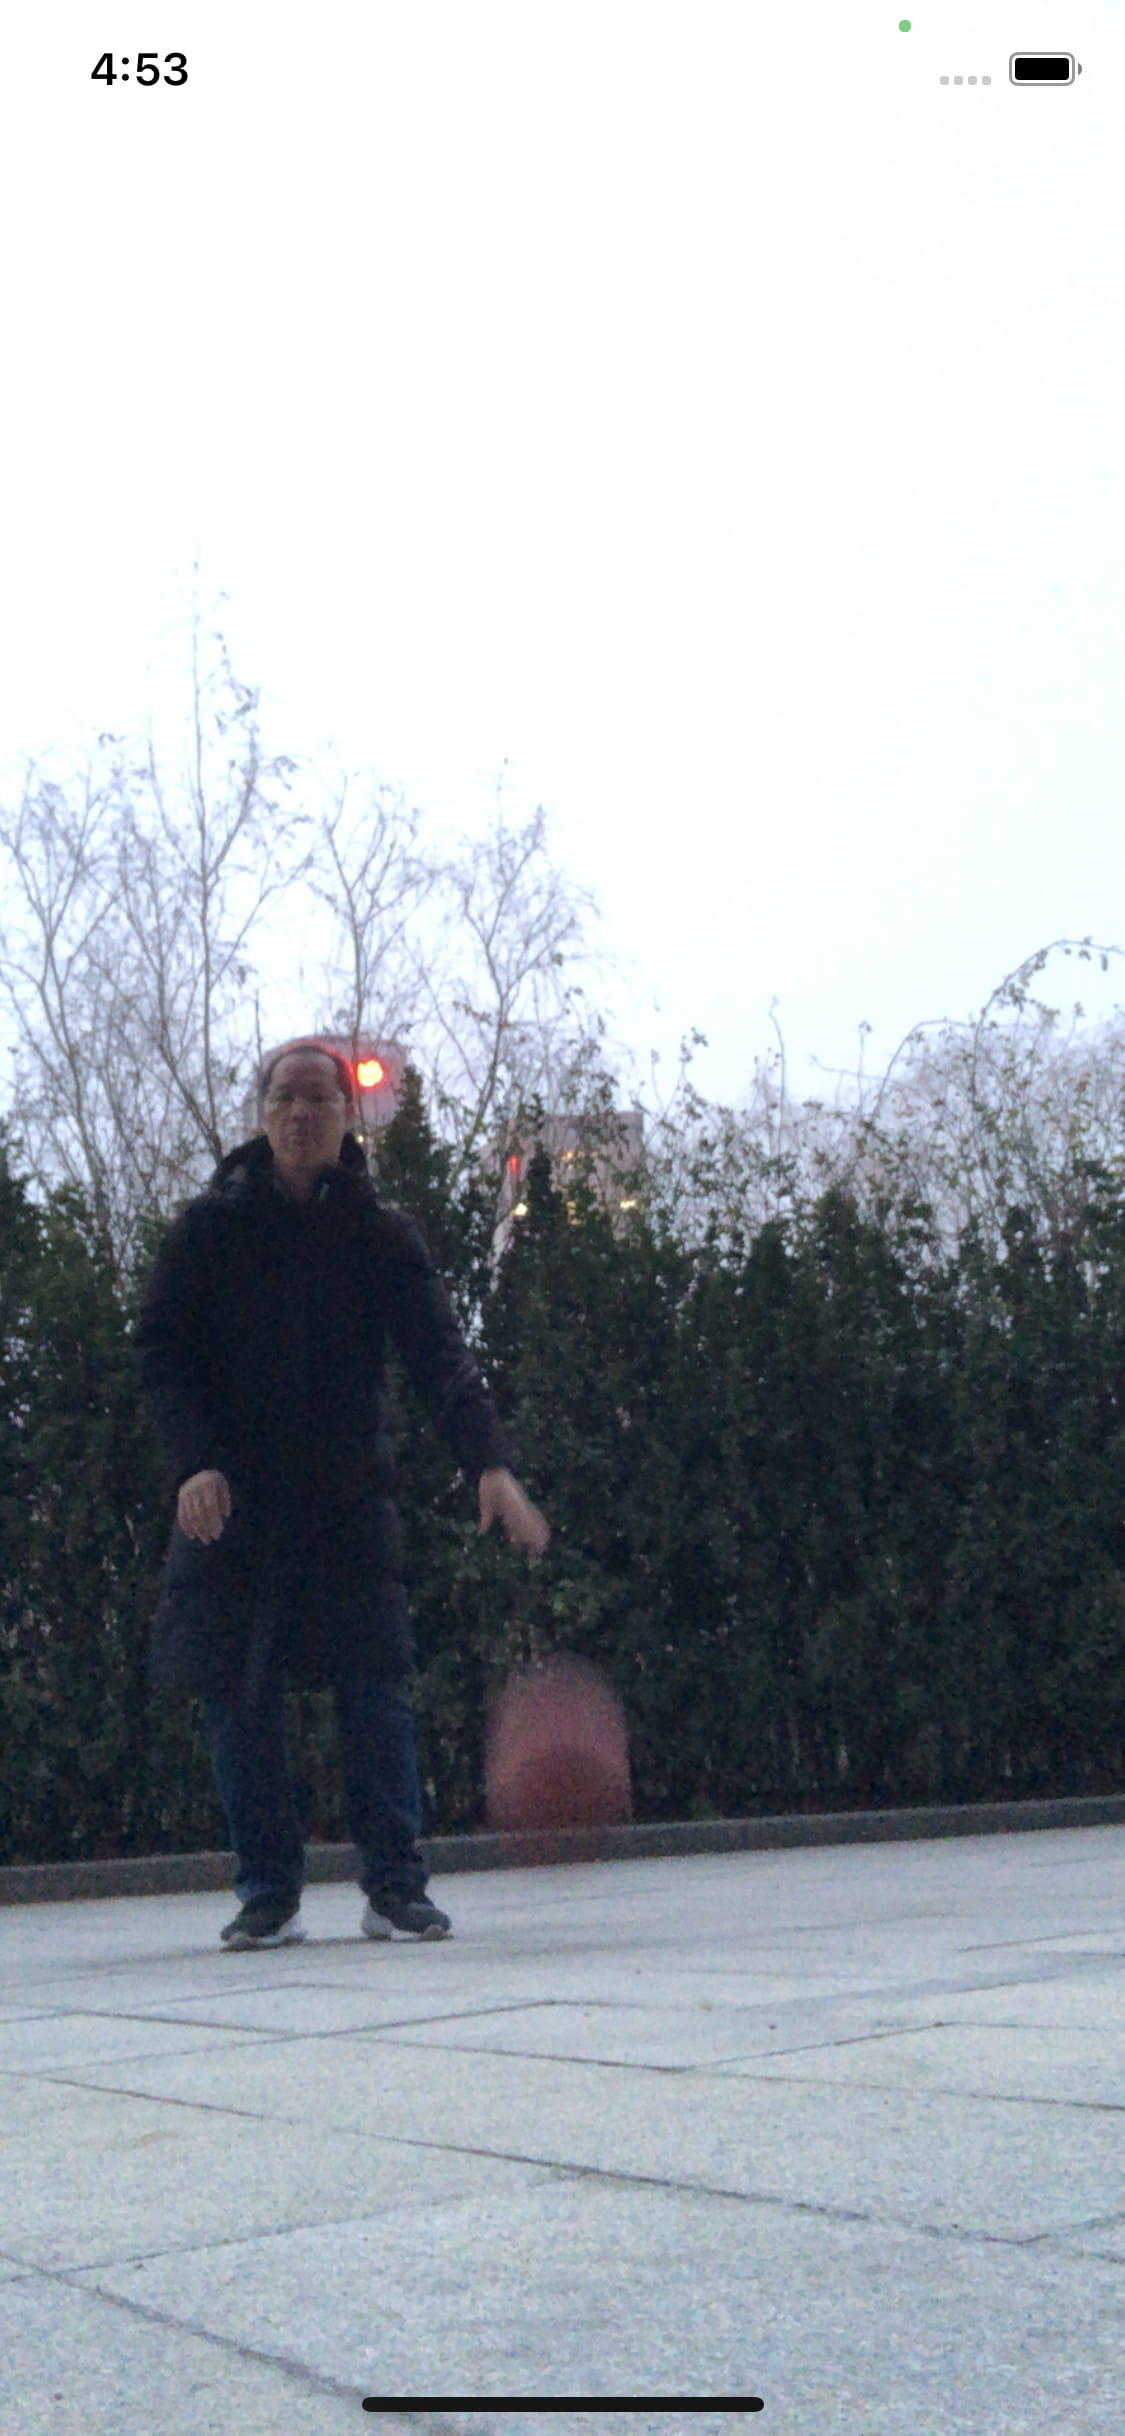ball: (485, 1670, 639, 1849)
